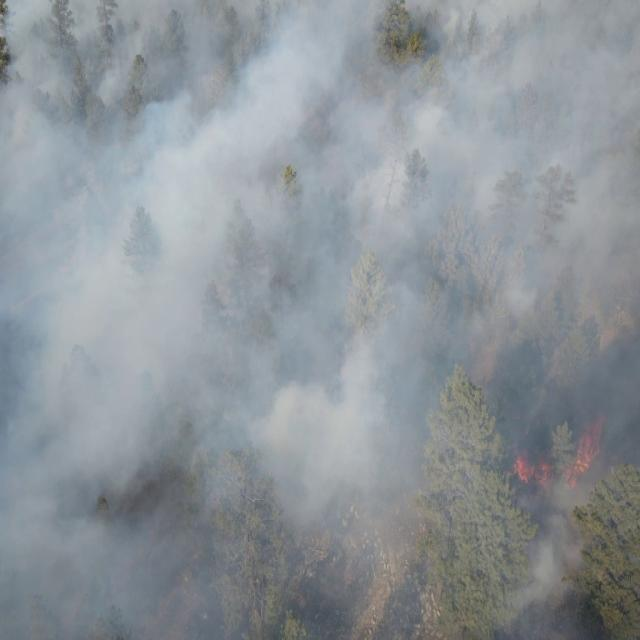fire: (562, 412, 608, 488), (509, 452, 555, 488)
smoke: (0, 0, 640, 640)
